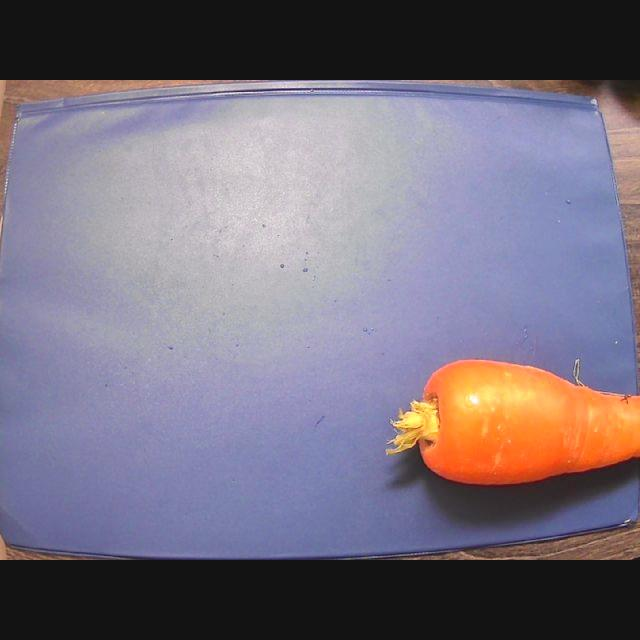zanahoria: (387, 359, 639, 483)
